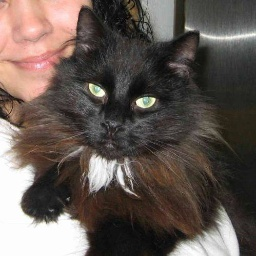cat: (21, 6, 225, 256)
